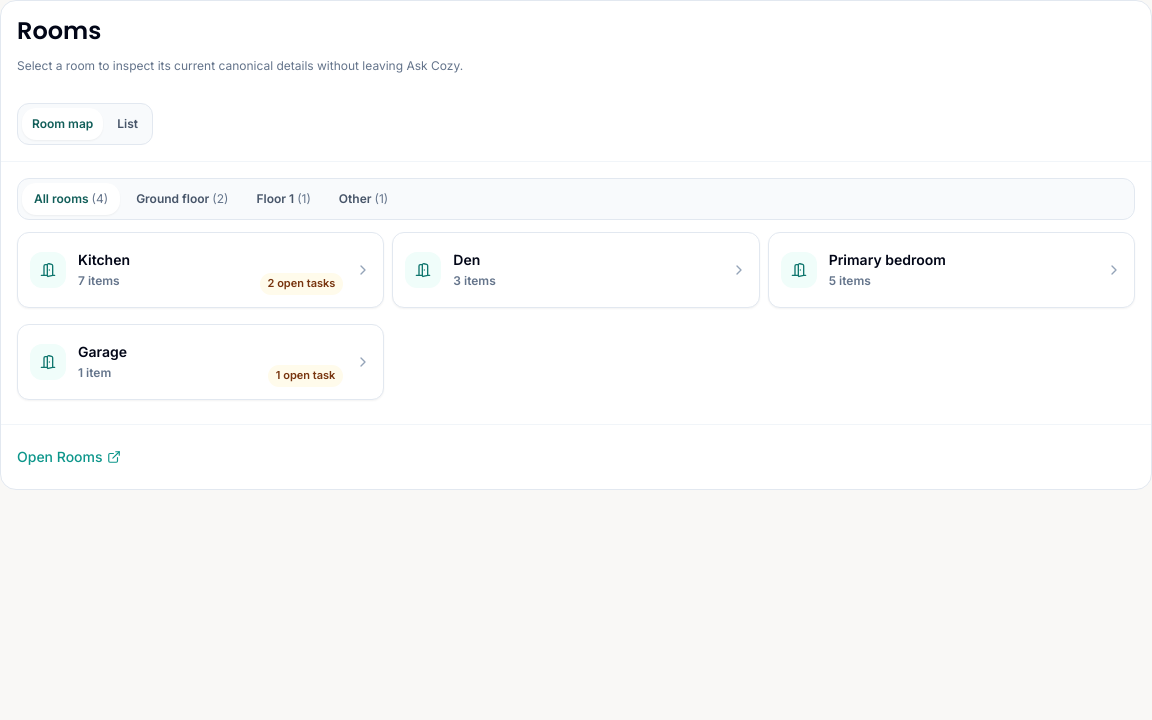
Test case: the room map shows every room by default and keeps floor filters with counts and badges
The image size is (1152, 720).
Expected: the button "Kitchen 7 items 2 open tasks" is shown, [17,232,384,308]
Click the button "Ground floor (2)". click: x=182, y=199
box: [124,183,240,215]
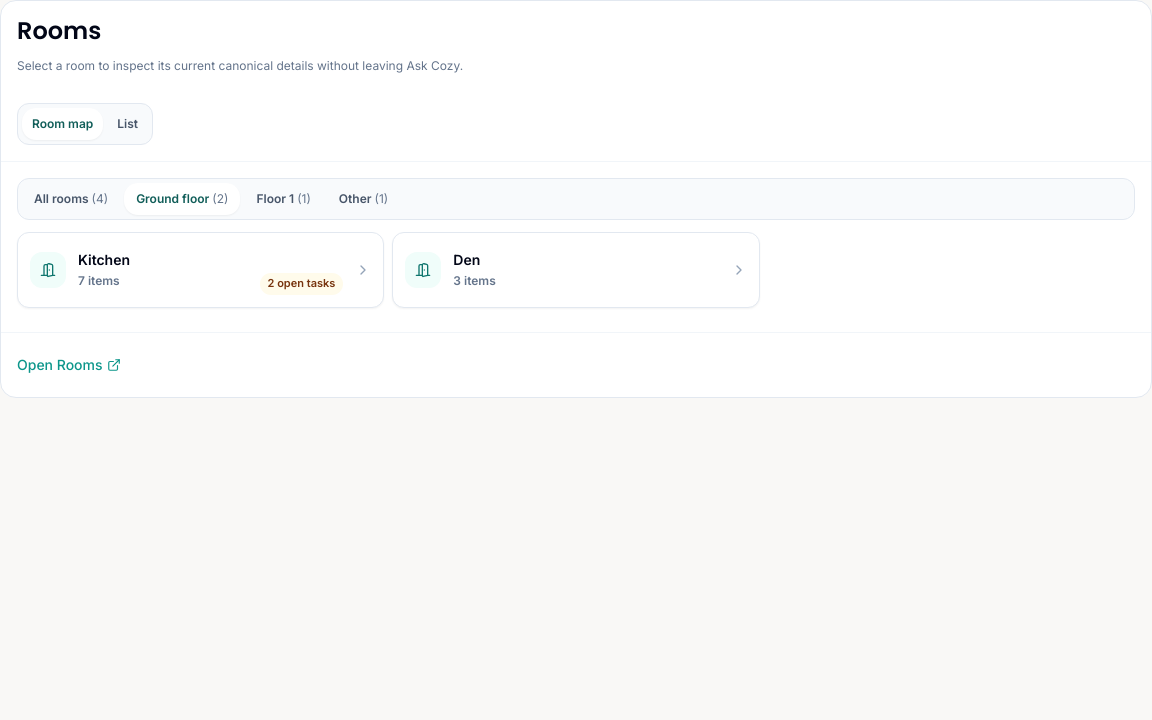
Click the button "Other (1)". click: x=364, y=199
box: [327,183,400,215]
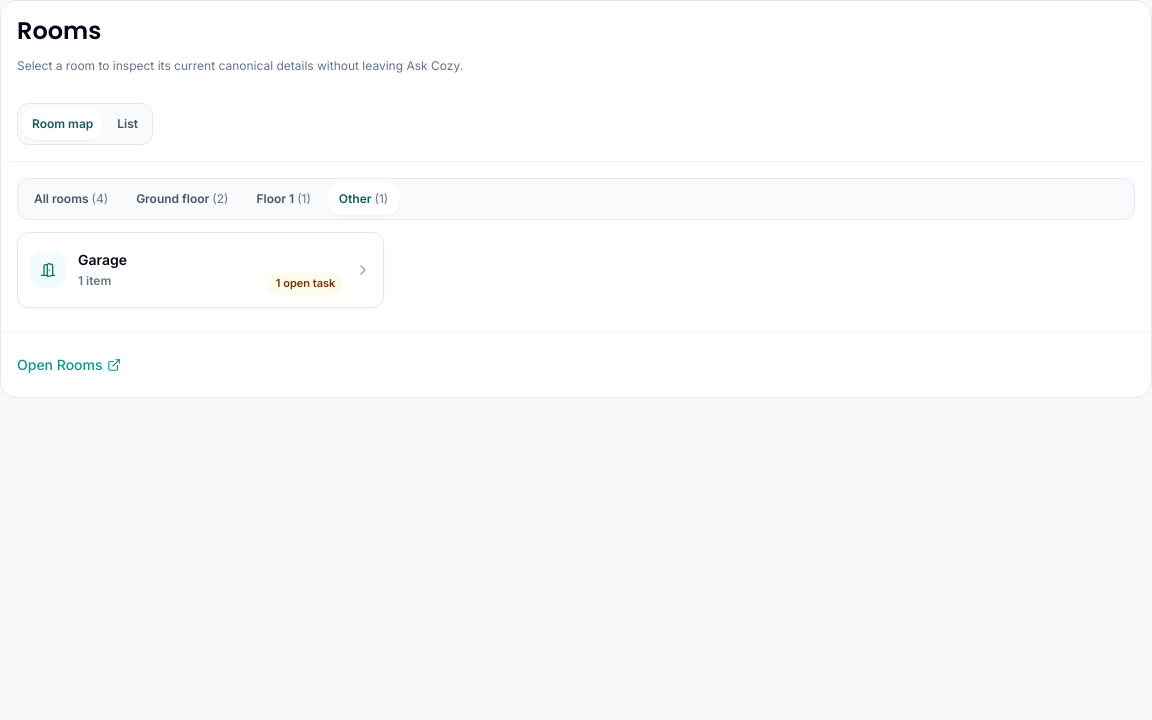
Now the button "Garage 1 item 1 open task" is shown, box [17,232,384,308]
